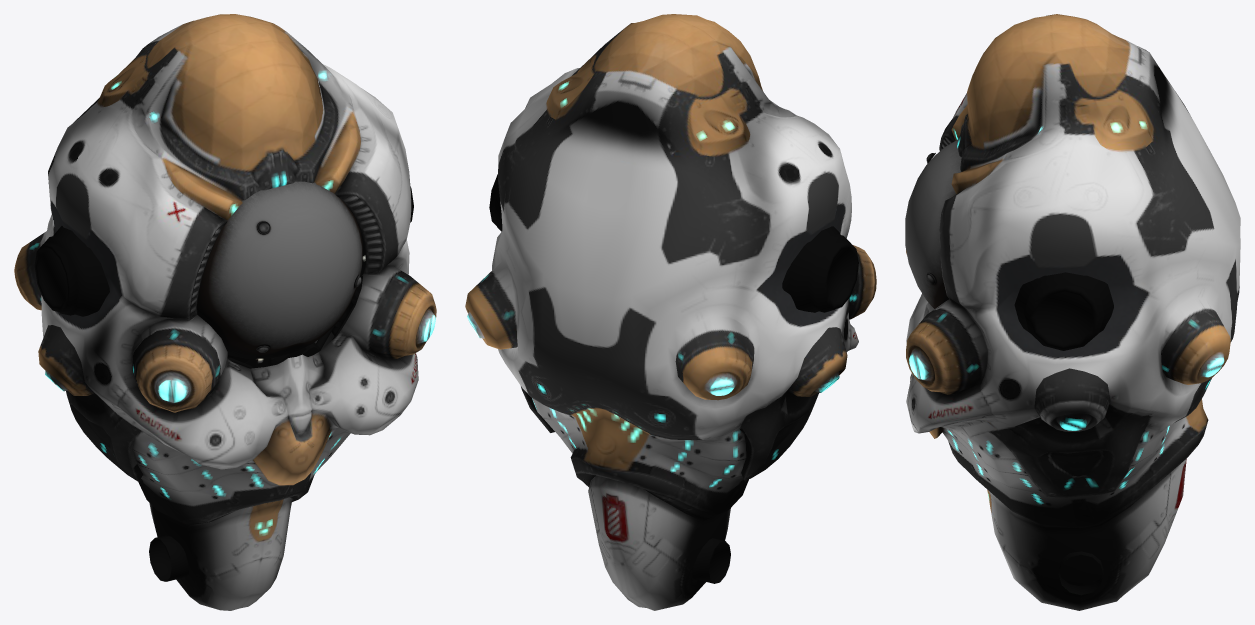
Rendered from torsoDSP.gltf.
3 views of the same model, side by side, from view 1: azimuth 30°, elevation 25°; view 2: azimuth 150°, elevation 25°; view 3: azimuth 270°, elevation 25° (orthographic). The views are drawn at different scales.
Parts seen in each view (by area): view 1: MP_DSP_Torso, MP_DSP_Cockpit_Glass, MP_DSP_Frame_Torso; view 2: MP_DSP_Torso, MP_DSP_Frame_Torso; view 3: MP_DSP_Torso, MP_DSP_Frame_Torso, MP_DSP_Cockpit_Glass.
Boxes of the visible parts, x1,y1,x2,y2 form: MP_DSP_Torso: (14, 14, 436, 610); MP_DSP_Cockpit_Glass: (197, 181, 362, 358); MP_DSP_Frame_Torso: (34, 186, 413, 581); MP_DSP_Torso: (465, 14, 876, 610); MP_DSP_Frame_Torso: (489, 174, 858, 583); MP_DSP_Torso: (906, 14, 1240, 610); MP_DSP_Frame_Torso: (1014, 272, 1113, 595); MP_DSP_Cockpit_Glass: (905, 139, 961, 308).
Size of the model in its own units: 0.6729 by 1.06 by 0.5538.
